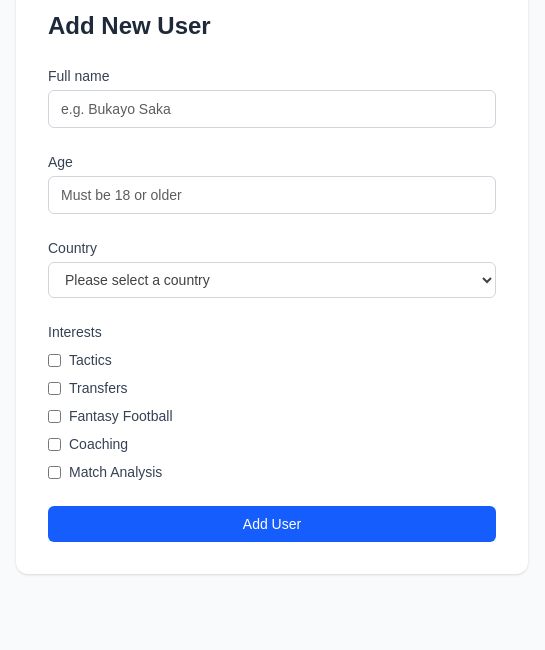
Scenario: AddUserPage › clears the interests error when a checkbox is selected
# Submit first to trigger errors
Click the button "Add User" at {"x": 272, "y": 524}, box [48,506,496,542]
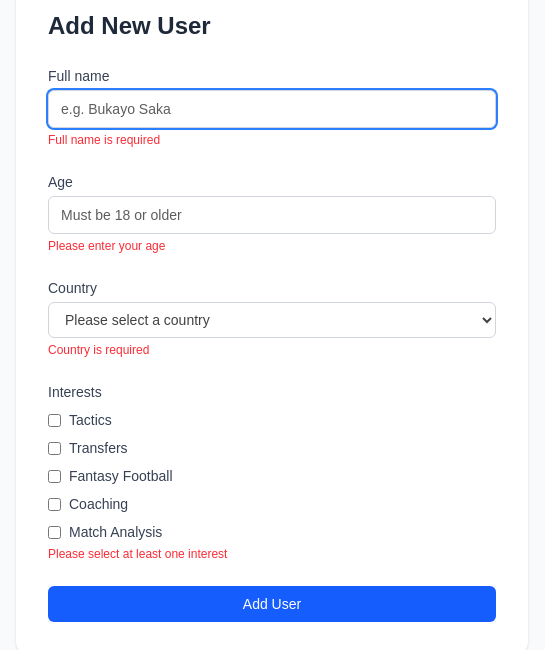
Now the text "Please select at least one interest" is shown, box [48,547,227,561]
# Now check an interest
Click the checkbox labelled "Tactics" at {"x": 54, "y": 420}, box [48,414,61,426]
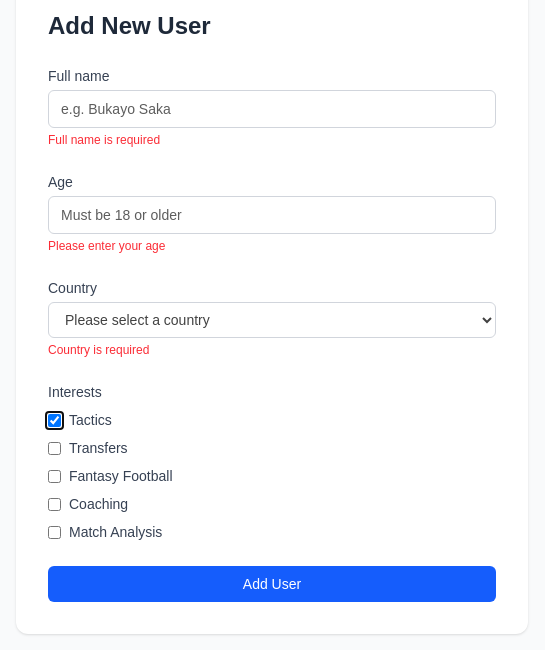
Now the text "Please select at least one interest" is gone
